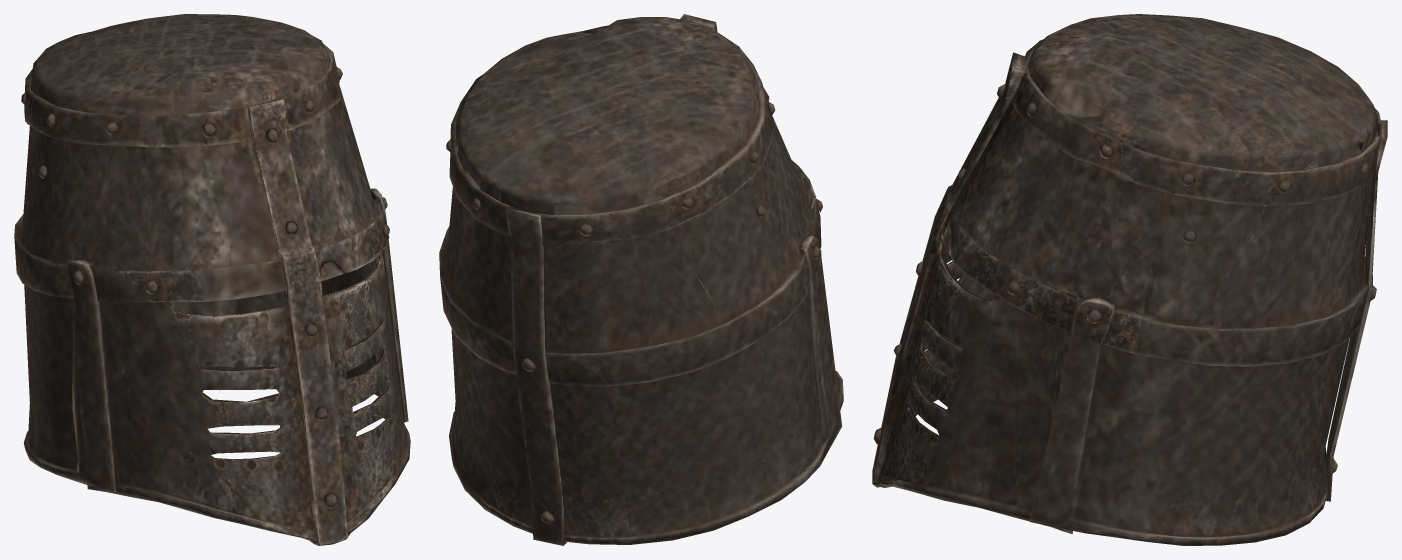
File: g_helm.glb
The picture shows the model from 3 angles, left to right: view 1: azimuth 30°, elevation 25°; view 2: azimuth 150°, elevation 25°; view 3: azimuth 270°, elevation 25°; orthographic projection. The views are drawn at different scales.
Parts seen in each view (by area): view 1: g_helm; view 2: g_helm; view 3: g_helm.
Part boxes in pixels (box(x1,y1,x2,y2)): g_helm: box(14, 14, 410, 545); g_helm: box(439, 14, 843, 545); g_helm: box(872, 14, 1387, 545).
Size of the model in its own units: 0.2707 by 0.3241 by 0.34.
Materials: 1 (1 with a texture image).
